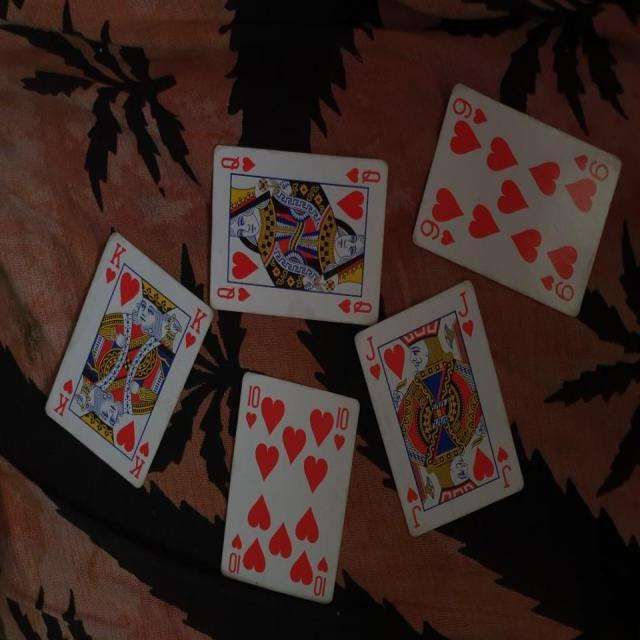10 of hearts: (216, 367, 367, 605)
9 of hearts: (411, 70, 623, 323)
jack of hearts: (354, 282, 529, 540)
king of hearts: (41, 233, 218, 488)
queen of hearts: (200, 134, 393, 331)
